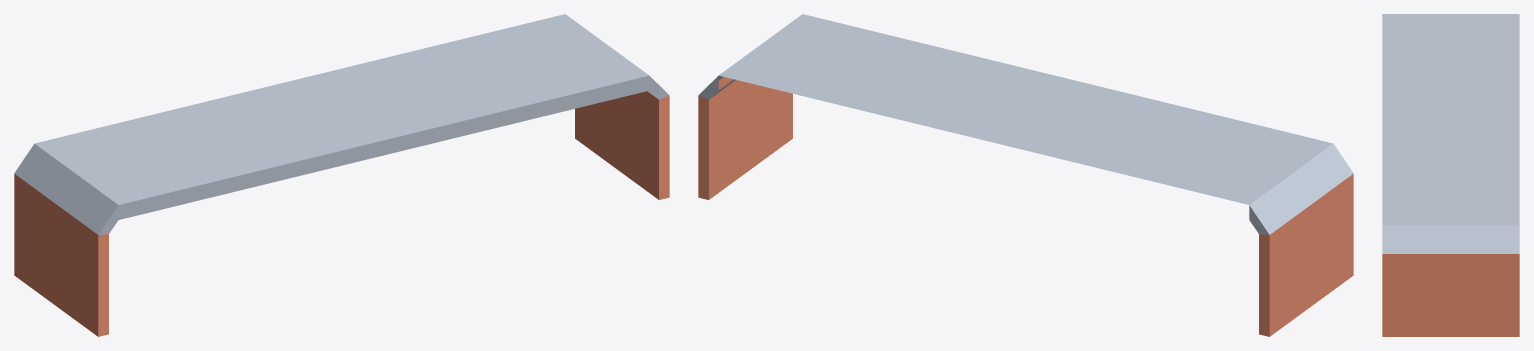
The model's file is Table.fbx.
3 renders of one model, left to right at view 1: azimuth 30°, elevation 25°; view 2: azimuth 150°, elevation 25°; view 3: azimuth 270°, elevation 25°, orthographic. The views are drawn at different scales.
Parts seen in each view (by area): view 1: Table:pCube1; view 2: Table:pCube1; view 3: Table:pCube1.
Boxes of the visible parts, bbox=[...] form: Table:pCube1: bbox=[14, 14, 669, 336]; Table:pCube1: bbox=[698, 14, 1353, 336]; Table:pCube1: bbox=[1382, 14, 1519, 336].
Bounding box in the file's own units: 17.51 × 3.72 × 4.46.
